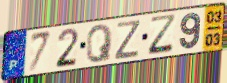2: (56, 27, 80, 69)
7: (29, 29, 53, 74)
9: (178, 11, 203, 52)
Q: (85, 23, 114, 64)
Z: (147, 12, 178, 57), (113, 18, 143, 61)
